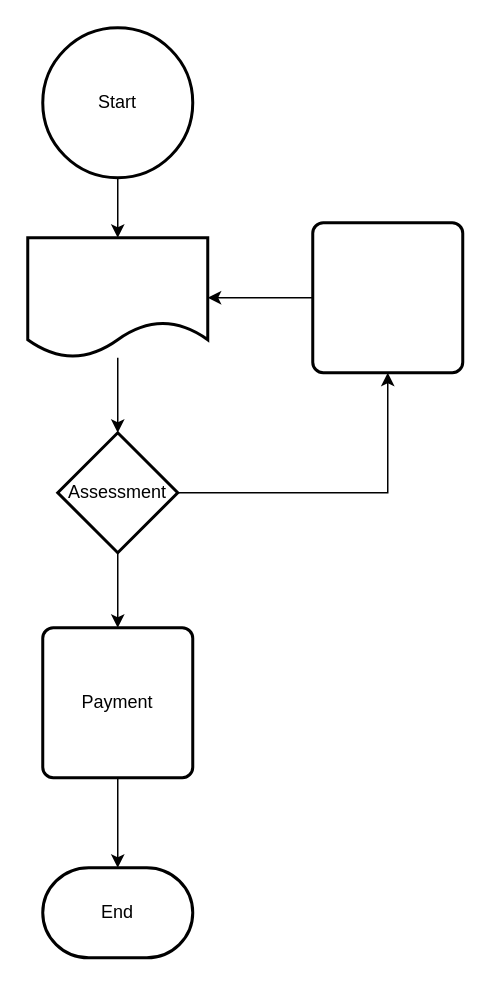
This 489x984 diagram has some shape labels left out. Here are the shapes that lost their labels. From the top down, the box of each, then its label:
(26, 236, 208, 358): Online Registration
(310, 220, 464, 374): Re-encode Registration
